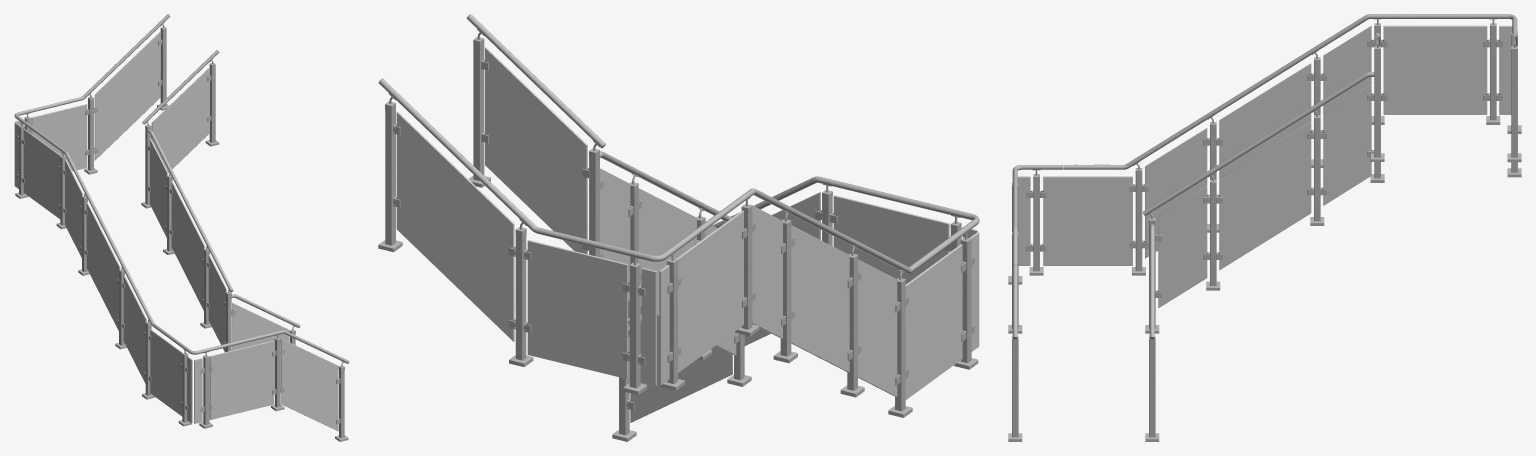
Rendered from U-Shaped_Railing_Circum-Square_Glass.gltf.
3 renders of one model, left to right at view 1: azimuth 30°, elevation 25°; view 2: azimuth 150°, elevation 25°; view 3: azimuth 270°, elevation 25°, orthographic. The views are drawn at different scales.
Visible parts, largest first — view 1: Glass Panel_007, Glass Panel_029, LS208 & LS209 - Circum Square Post Material LS Material [872 (×10), Glass Panel_035, Glass Panel_000, Glass Panel_010, Glass Panel_008, Glass Panel_024, Glass Panel_020 (1), Glass Panel_027, LS208 & LS209 - Circum Square Post Material LS Material [846 (×5), Glass Panel_034 (+11 smaller); view 2: Glass Panel_007, Glass Panel_000, Glass Panel_008, LS208 & LS209 - Circum Square Post Material LS Material [872 (×9), Glass Panel_010, Glass Panel_024, Glass Panel_027, Glass Panel_029, Glass Panel_026, LS208 & LS209 - Circum Square Post Material LS Material [846 (×4), Glass Panel_020, Glass Panel_020 (1) (+15 smaller); view 3: Glass Panel_010, Glass Panel_020 (1), Glass Panel_027, Glass Panel_024, Glass Panel_019 (1), Glass Panel_019, LS208 & LS209 - Circum Square Post Material LS Material [872 (×5), Glass Panel_026, LS208 & LS209 - Circum Square Post Material LS Material [846 (×4), Glass Panel_020, Nested_Bend Bend [8719267]001, Glass Panel_028 (+5 smaller).
Part boxes in pixels (<box>): Glass Panel_007: <box>94,32,160,160</box>; Glass Panel_029: <box>209,340,274,419</box>; LS208 & LS209 - Circum Square Post Material LS Material [872 (×10): <box>60,28,344,438</box>; Glass Panel_035: <box>281,338,338,431</box>; Glass Panel_000: <box>151,68,209,172</box>; Glass Panel_010: <box>23,129,60,218</box>; Glass Panel_008: <box>31,104,87,171</box>; Glass Panel_024: <box>86,202,120,330</box>; Glass Panel_020 (1): <box>171,181,205,310</box>; Glass Panel_027: <box>150,329,182,416</box>; LS208 & LS209 - Circum Square Post Material LS Material [846 (×5): <box>145,64,231,351</box>; Glass Panel_034: <box>232,303,289,388</box>; Glass Panel_007: <box>396,111,514,341</box>; Glass Panel_000: <box>485,46,587,254</box>; Glass Panel_008: <box>527,240,628,378</box>; LS208 & LS209 - Circum Square Post Material LS Material [872 (×9): <box>385,104,971,411</box>; Glass Panel_010: <box>676,210,743,372</box>; Glass Panel_024: <box>791,225,849,372</box>; Glass Panel_027: <box>905,244,962,399</box>; Glass Panel_029: <box>833,195,949,284</box>; Glass Panel_026: <box>858,259,897,397</box>; LS208 & LS209 - Circum Square Post Material LS Material [846 (×4): <box>473,39,638,435</box>; Glass Panel_020: <box>750,204,782,338</box>; Glass Panel_020 (1): <box>638,188,696,316</box>; Glass Panel_010: <box>1383,25,1487,114</box>; Glass Panel_020 (1): <box>1219,121,1311,270</box>; Glass Panel_027: <box>1043,176,1132,265</box>; Glass Panel_024: <box>1219,63,1311,177</box>; Glass Panel_019 (1): <box>1158,186,1207,307</box>; Glass Panel_019: <box>1323,83,1371,205</box>; LS208 & LS209 - Circum Square Post Material LS Material [872 (×5): <box>1012,26,1517,437</box>; Glass Panel_026: <box>1145,128,1207,258</box>; LS208 & LS209 - Circum Square Post Material LS Material [846 (×4): <box>1149,49,1380,437</box>; Glass Panel_020: <box>1323,25,1371,113</box>; Nested_Bend Bend [8719267]001: <box>1143,72,1374,215</box>; Glass Panel_028: <box>1017,176,1030,265</box>.
Bounding box in the file's own units: 1.99 × 3.48 × 3.95.
